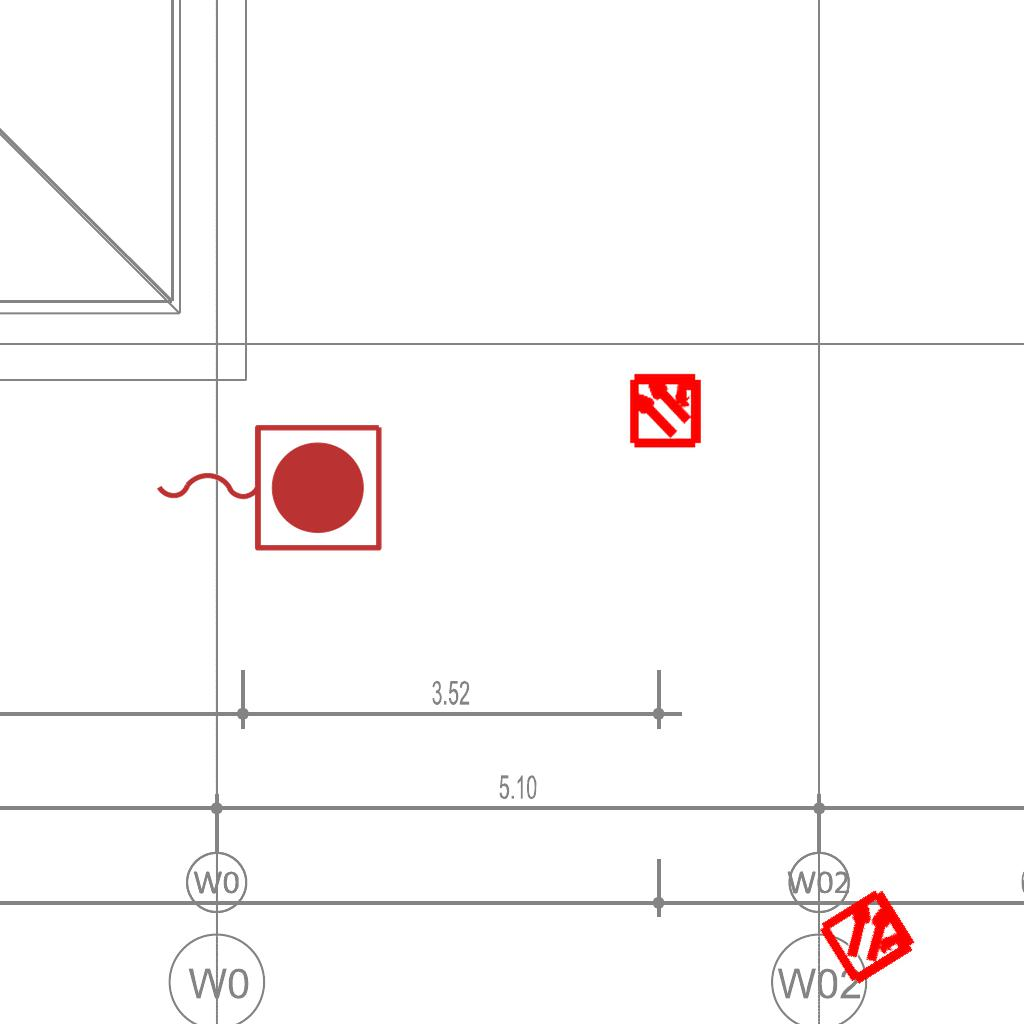OT_Multisensormelder_(Kombination_RMO_WMD): (791, 857, 948, 1014), (609, 352, 722, 465)
Zugtaster: (146, 414, 390, 558)
